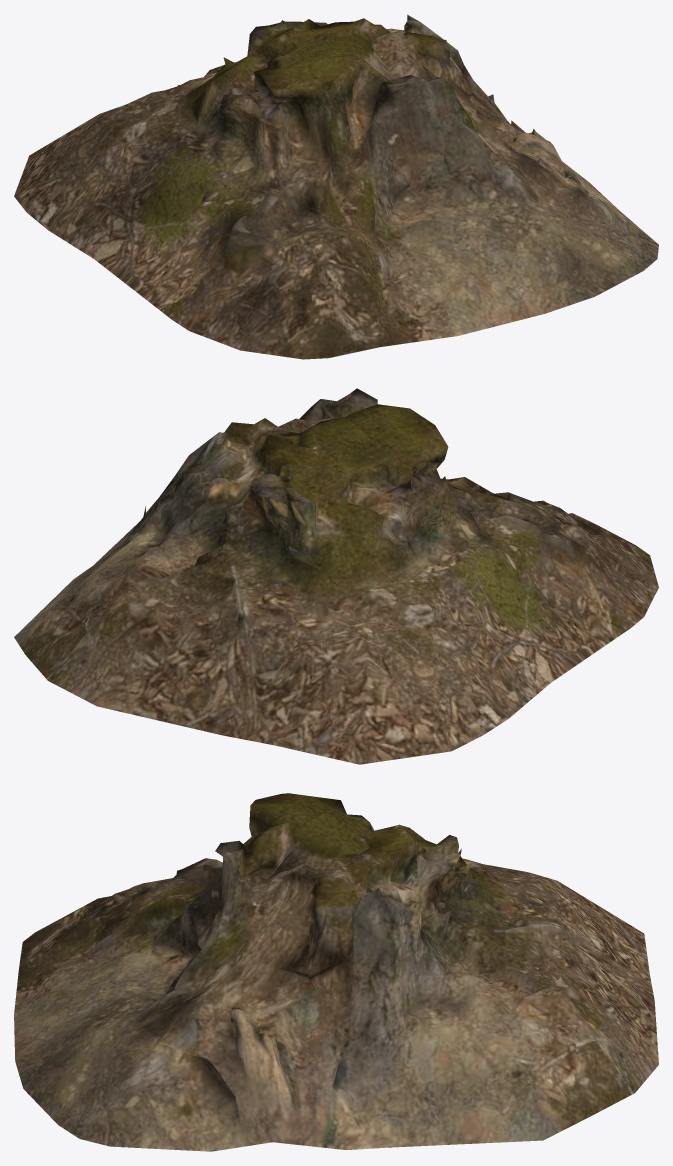
The model's file is stump.glb.
The picture shows the model from 3 angles, top to bottom: view 1: azimuth 30°, elevation 25°; view 2: azimuth 150°, elevation 25°; view 3: azimuth 270°, elevation 25°; orthographic projection. The views are drawn at different scales.
Visible parts, largest first — view 1: tree_stump_01; view 2: tree_stump_01; view 3: tree_stump_01.
Part boxes in pixels (x1,y1,x2,y2): tree_stump_01: (14, 14, 658, 359); tree_stump_01: (14, 388, 658, 764); tree_stump_01: (14, 793, 658, 1151).
Size of the model in its own units: 1.43 by 0.571 by 1.59.
Materials: 1 (1 with a texture image).
